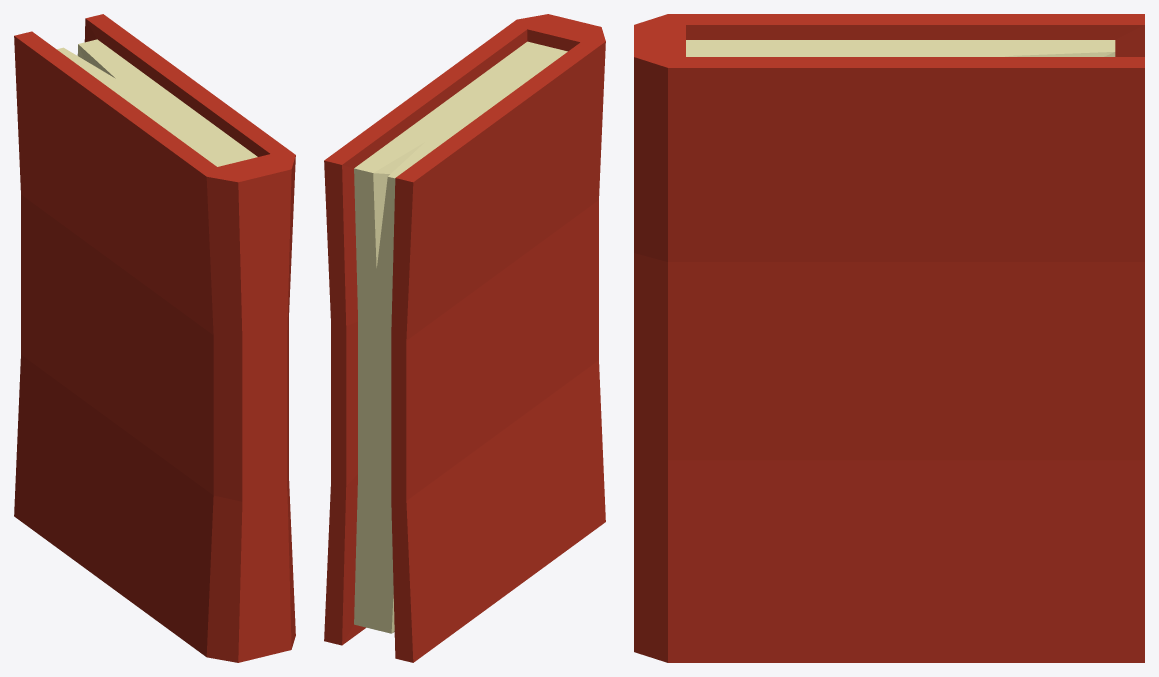
File: book_1.fbx
3 renders of one model, left to right at view 1: azimuth 30°, elevation 25°; view 2: azimuth 150°, elevation 25°; view 3: azimuth 270°, elevation 25°, orthographic. The views are drawn at different scales.
Visible parts, largest first — view 1: book_1; view 2: book_1; view 3: book_1.
Part boxes in pixels (x1=…): book_1: x1=14, y1=14, x2=295, y2=662; book_1: x1=324, y1=14, x2=605, y2=662; book_1: x1=634, y1=14, x2=1144, y2=662.
Bounding box in the file's own units: 9.69 × 49.84 × 38.77.
